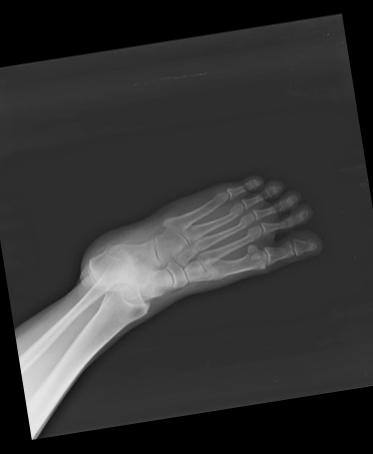fractured: (186, 265, 213, 285)
